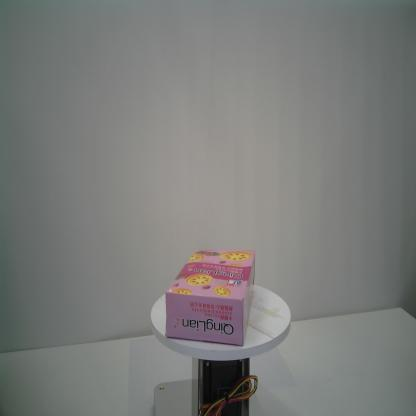Dessert: (164, 247, 256, 348)
